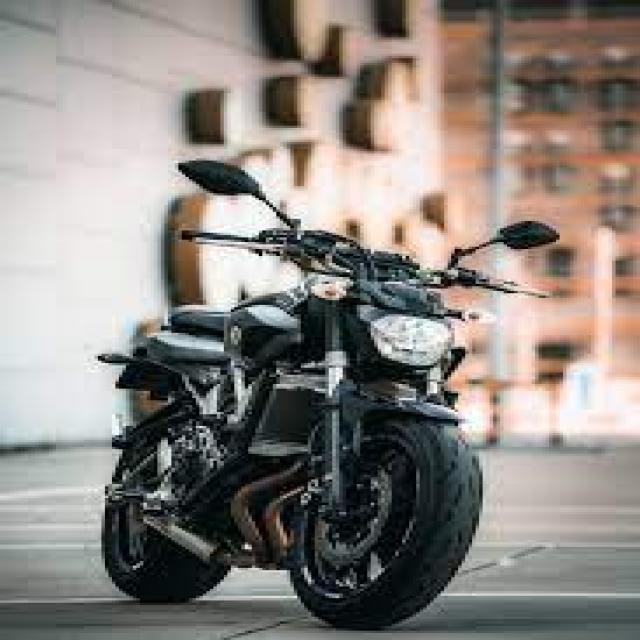MOTORCYCLE: (95, 168, 492, 632)
